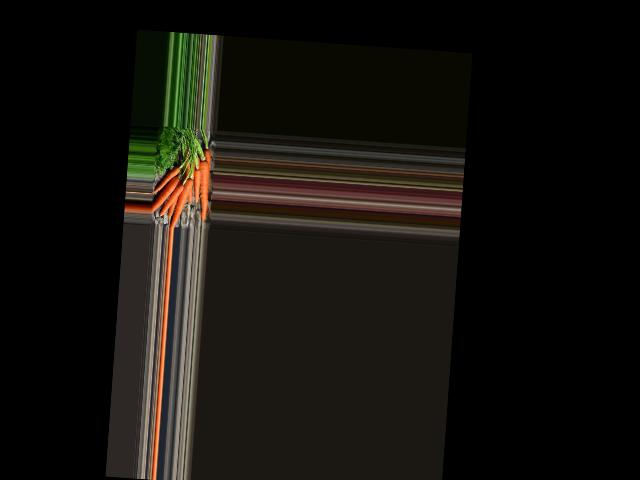carrot: (154, 163, 180, 192)
